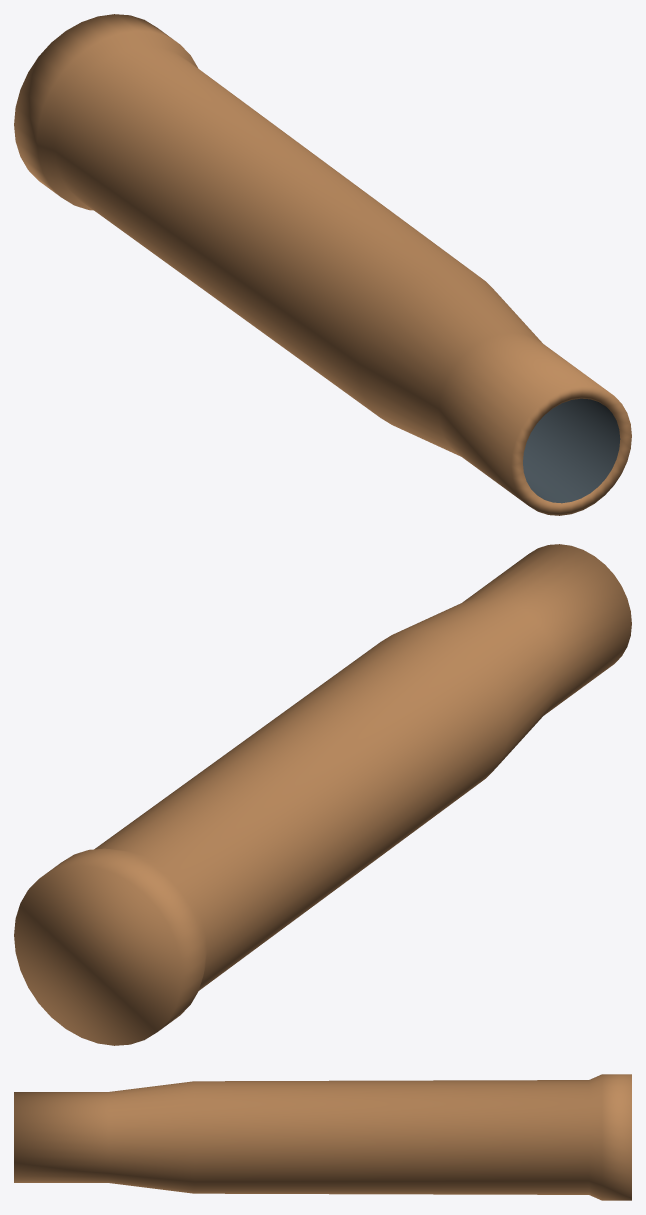
The model's file is cannon_30_case_display.glb.
3 renders of one model, top to bottom at view 1: azimuth 30°, elevation 25°; view 2: azimuth 150°, elevation 25°; view 3: azimuth 270°, elevation 25°, orthographic. The views are drawn at different scales.
Visible parts, largest first — view 1: AMMO_MESH.029; view 2: AMMO_MESH.029; view 3: AMMO_MESH.029.
Part boxes in pixels (x1=…): AMMO_MESH.029: x1=14, y1=14, x2=631, y2=515; AMMO_MESH.029: x1=14, y1=544, x2=631, y2=1045; AMMO_MESH.029: x1=14, y1=1074, x2=631, y2=1200.
Bounding box in the file's own units: 0.042 × 0.042 × 0.2052.
